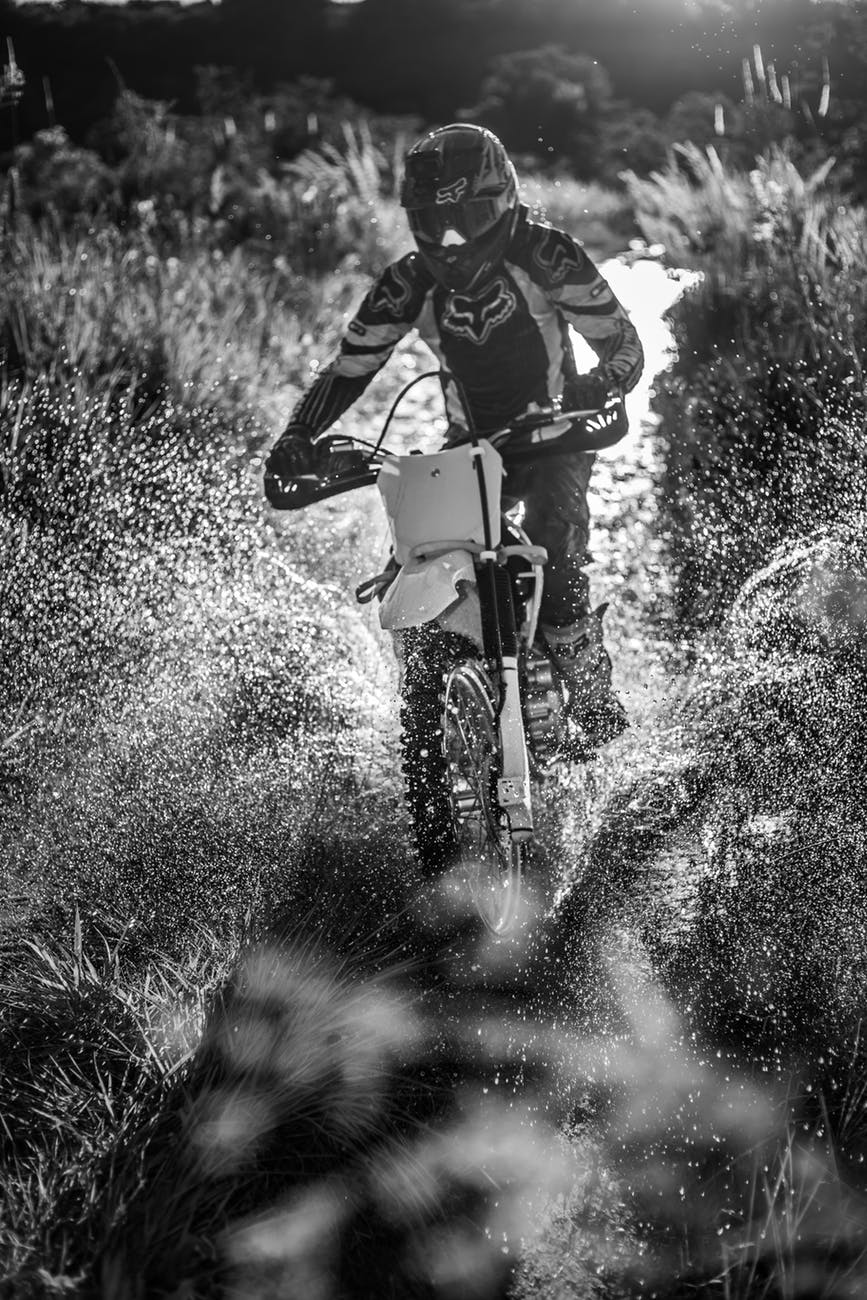helmet: (402, 133, 524, 259)
